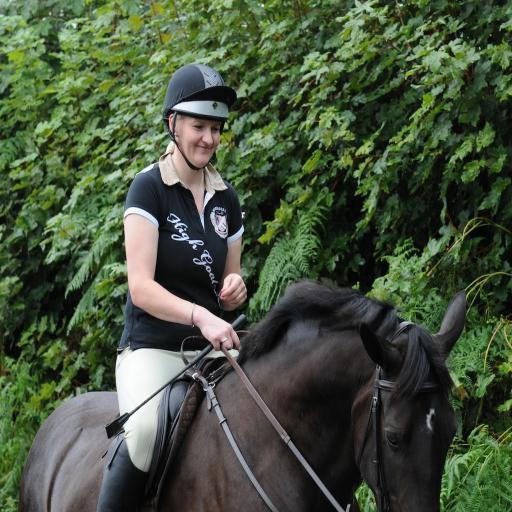horse: (18, 276, 468, 512)
